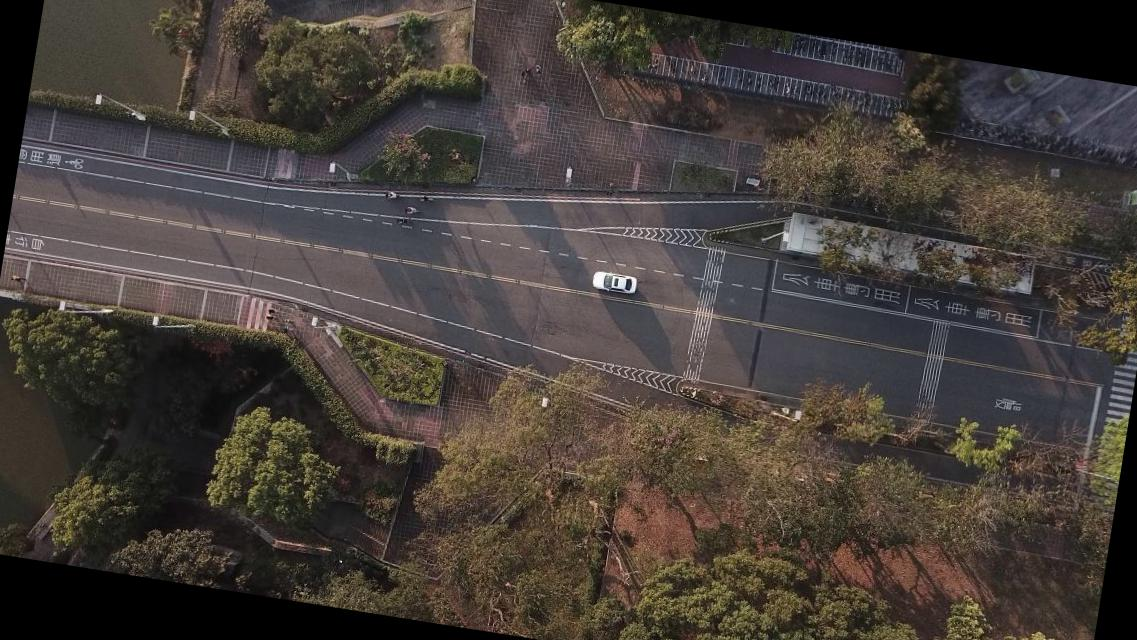vehicle: (591, 268, 638, 296)
